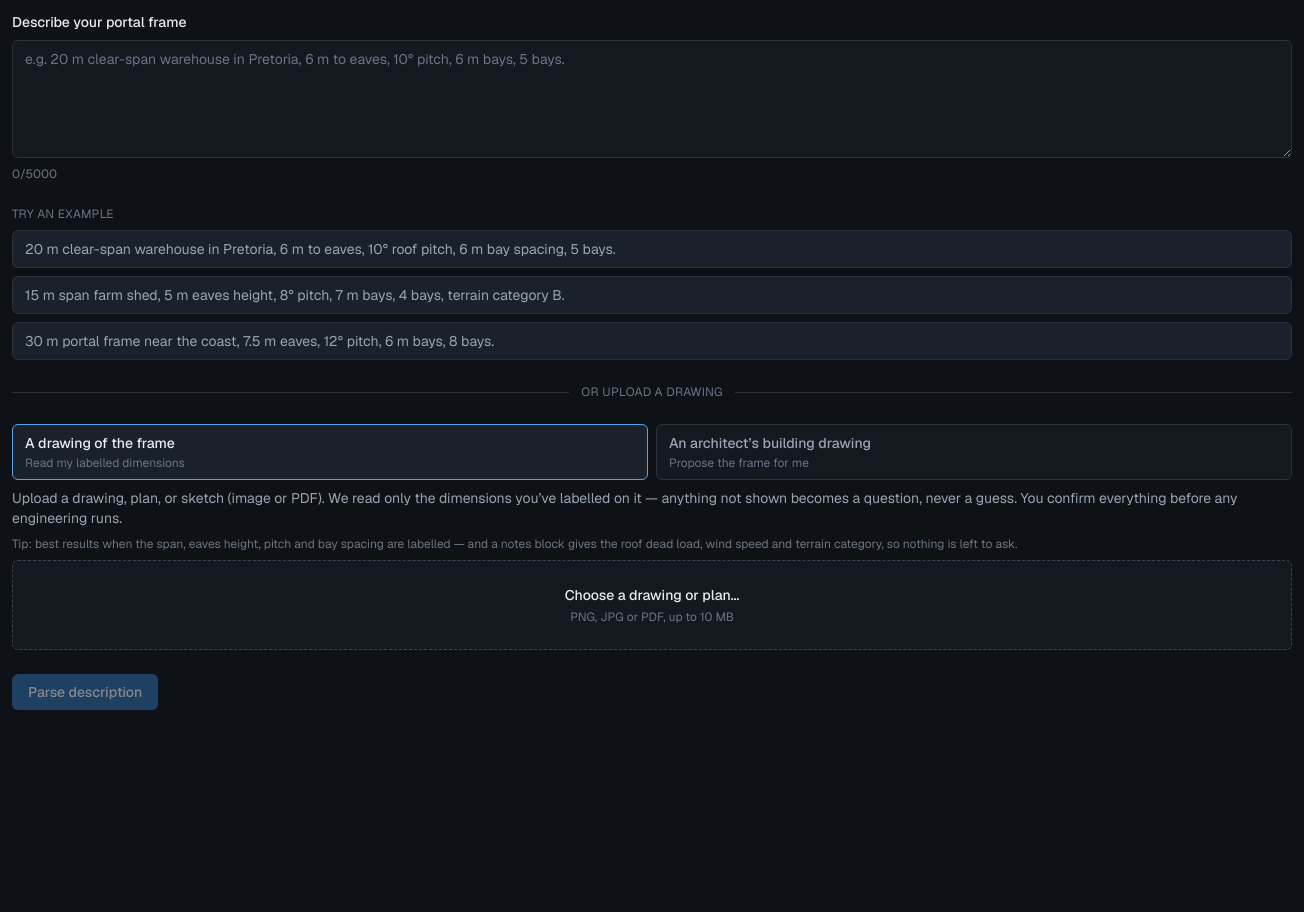
it: DescribeStep › surfaces clarifying questions inline
The width and height of the screenshot is (1304, 912).
Type "a shed" into the text box labelled "Describe your portal frame" at {"x": 652, "y": 99}, box 12,40 -> 1292,158
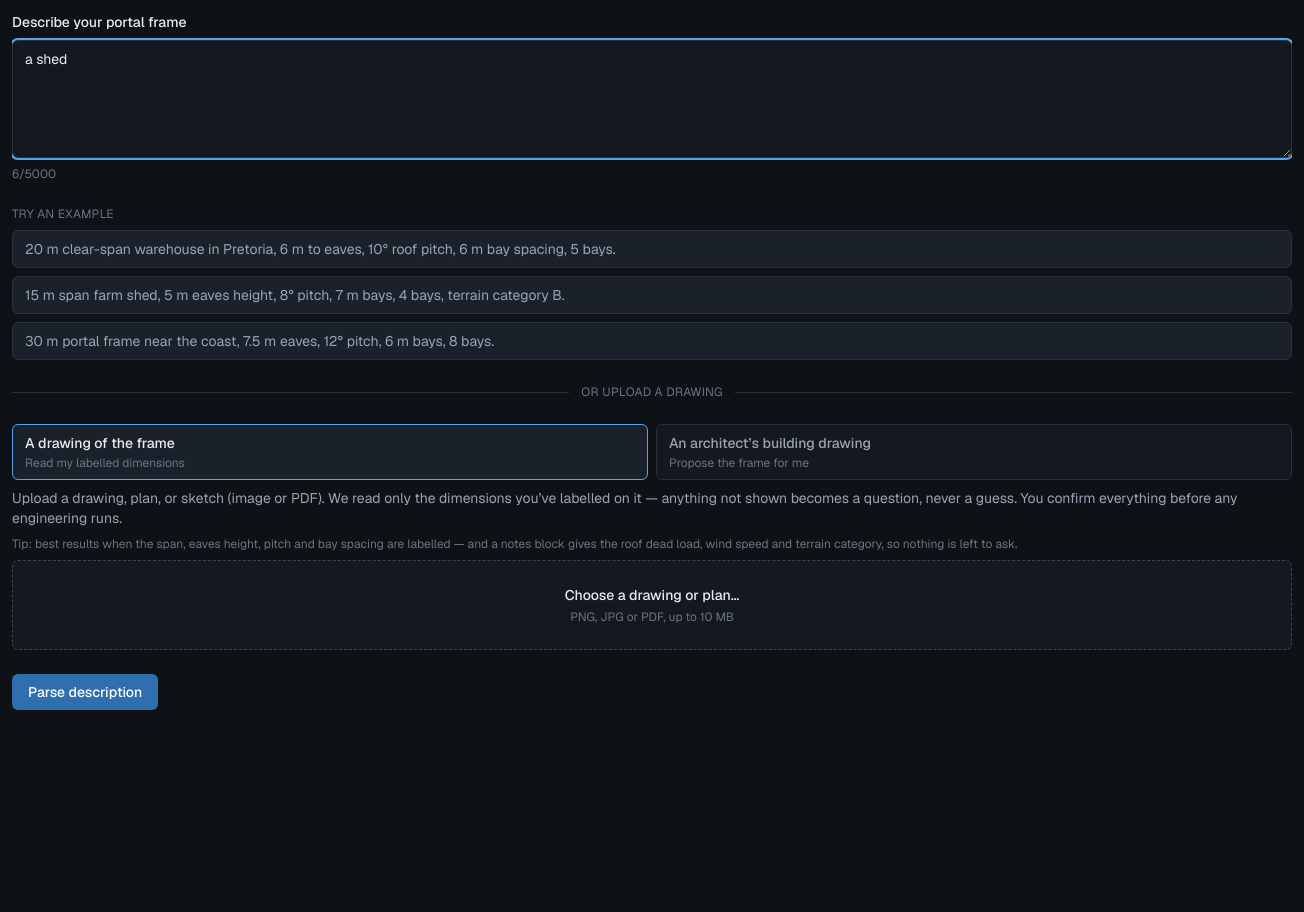
Click the button "Parse description" at {"x": 85, "y": 692}, box 12,674 -> 158,710
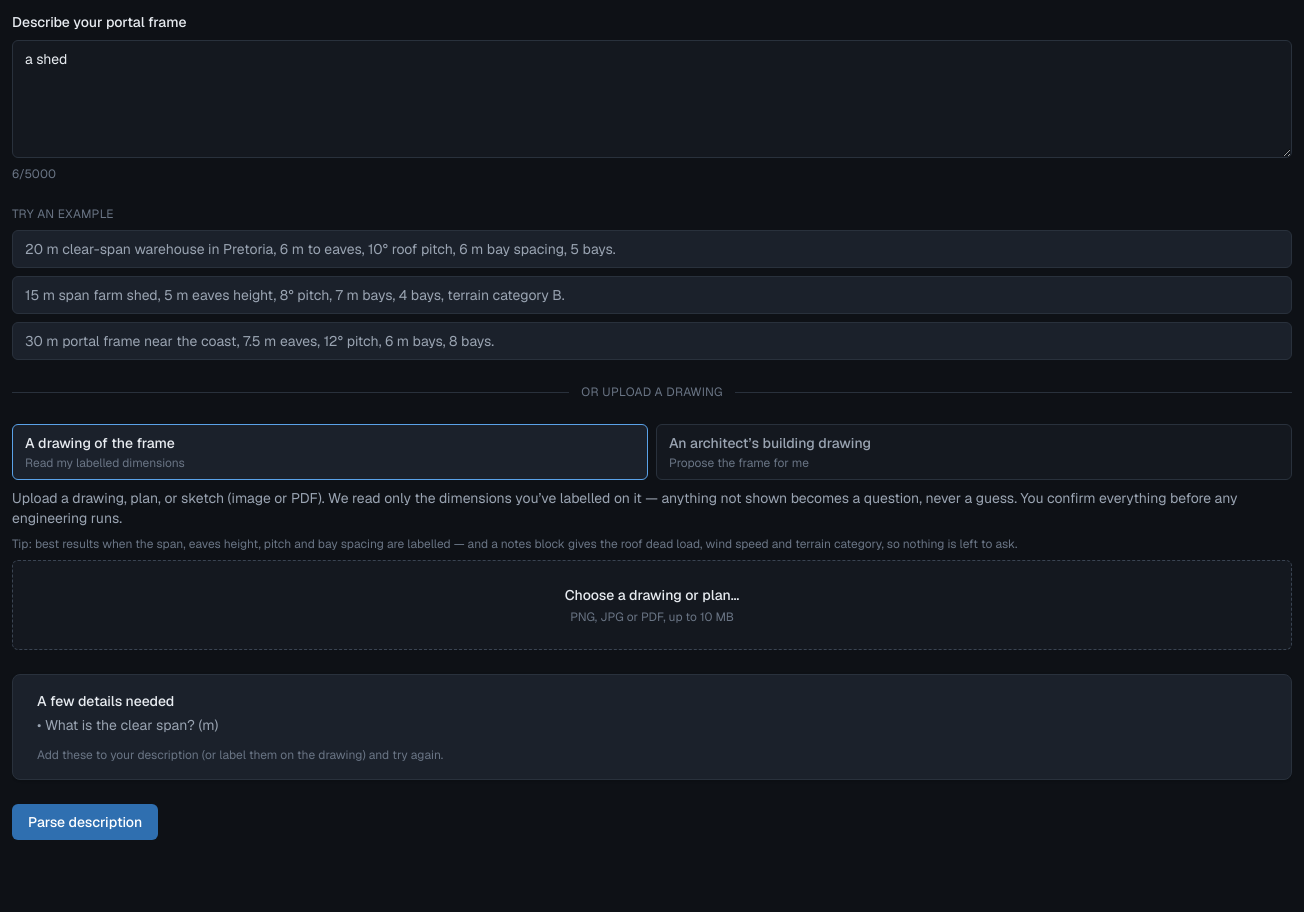
Check: the list item "• What is the clear span? (m)" is shown, box 37,716 -> 218,734
